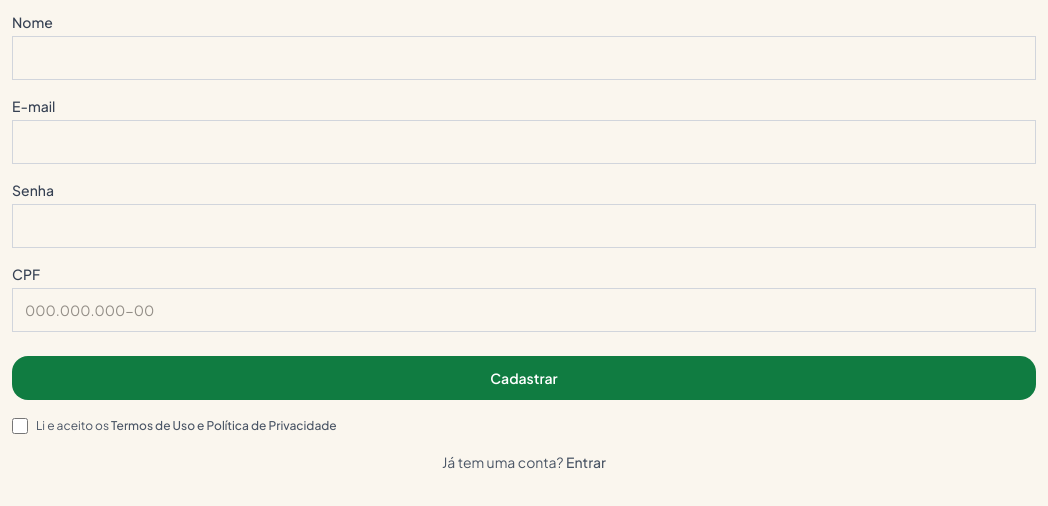
RegisterForm › should show inline error for invalid CPF
In the field labelled "CPF": (524, 310) 12,288 -> 1036,332, type "11111111111"
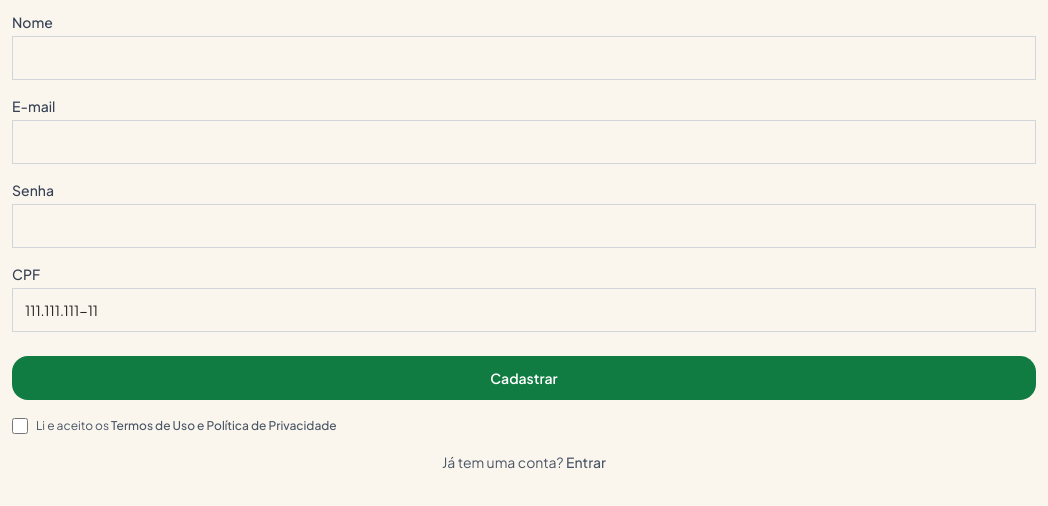
Press Tab
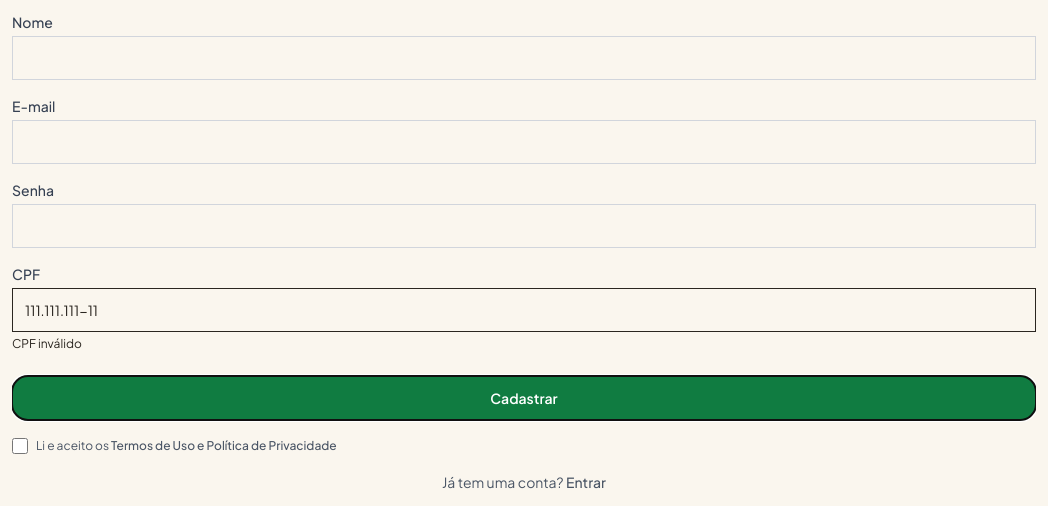
Expected: the text "CPF inválido" is shown, 12,336 -> 82,351
